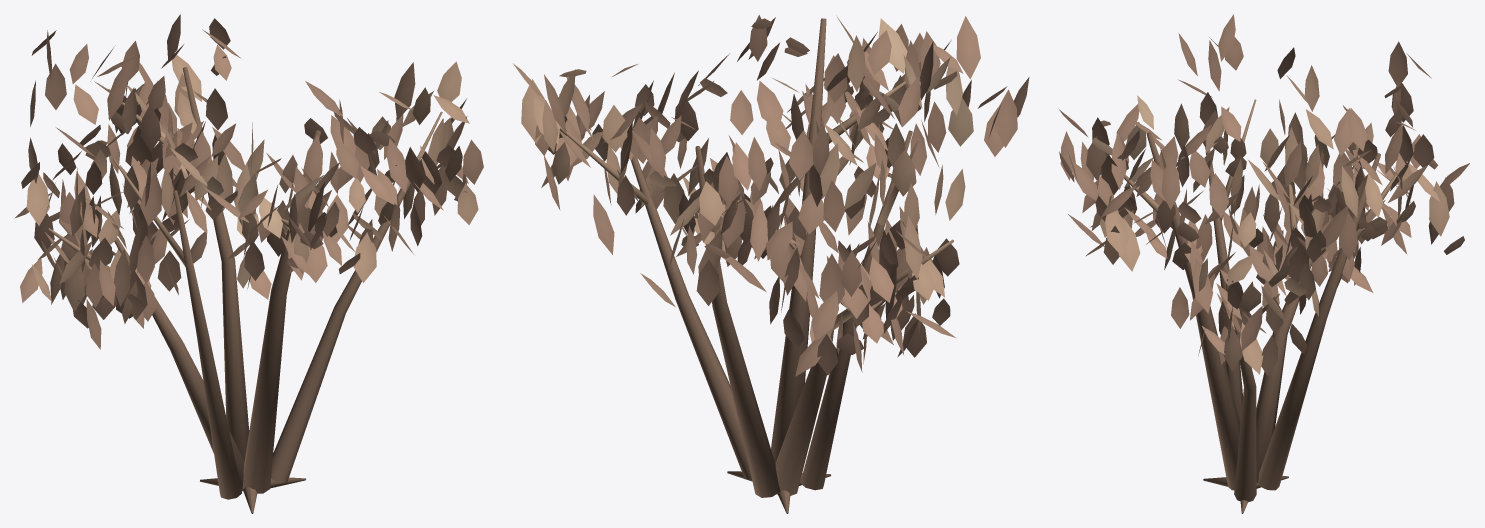
The model's file is bush_3d_03_copper.glb.
The picture shows the model from 3 angles, left to right: view 1: azimuth 30°, elevation 25°; view 2: azimuth 150°, elevation 25°; view 3: azimuth 270°, elevation 25°; orthographic projection. The views are drawn at different scales.
Parts seen in each view (by area): view 1: bush_3d_03_copper_foliage, bush_3d_03_copper_wood; view 2: bush_3d_03_copper_foliage, bush_3d_03_copper_wood; view 3: bush_3d_03_copper_foliage, bush_3d_03_copper_wood.
Part boxes in pixels (bbox=[...]): bush_3d_03_copper_foliage: bbox=[14, 14, 483, 349]; bush_3d_03_copper_wood: bbox=[47, 67, 442, 513]; bush_3d_03_copper_foliage: bbox=[513, 15, 1029, 376]; bush_3d_03_copper_wood: bbox=[560, 18, 953, 513]; bush_3d_03_copper_foliage: bbox=[1059, 14, 1469, 375]; bush_3d_03_copper_wood: bbox=[1124, 99, 1414, 513].
Bounding box in the file's own units: 2.12 × 2.03 × 1.9.
